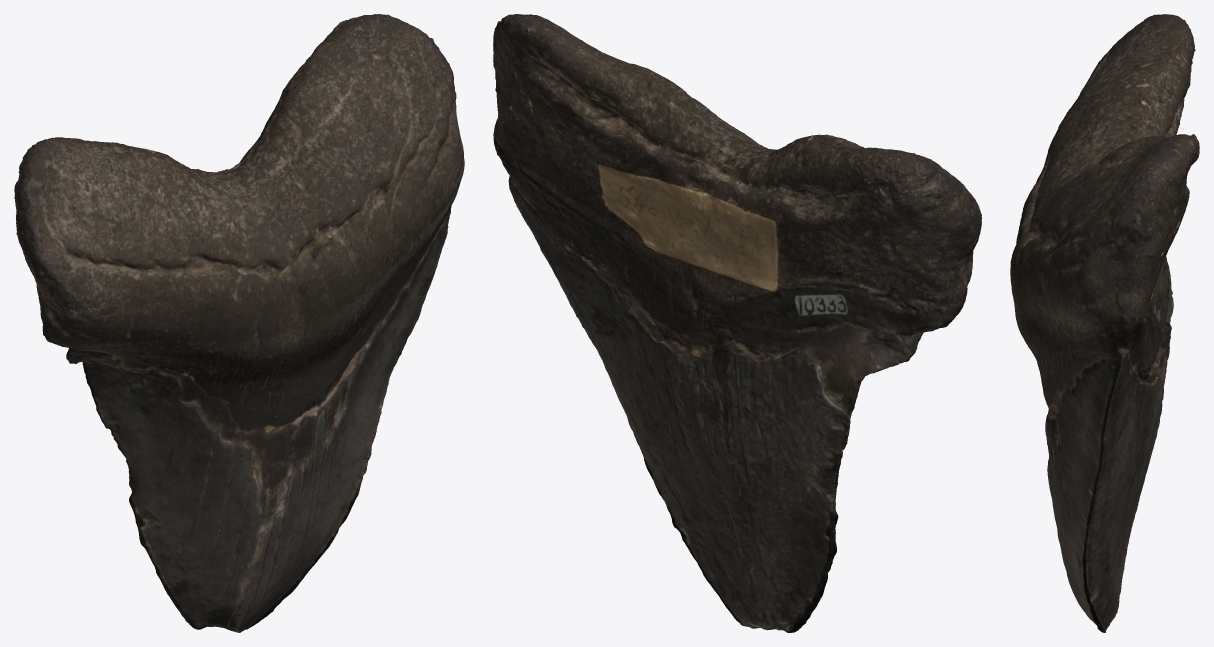
The picture shows the model from 3 angles, left to right: view 1: azimuth 30°, elevation 25°; view 2: azimuth 150°, elevation 25°; view 3: azimuth 270°, elevation 25°; orthographic projection. The views are drawn at different scales.
Parts seen in each view (by area): view 1: tamanho; view 2: tamanho; view 3: tamanho.
Boxes of the visible parts, box(x1,y1,x2,y2) form: tamanho: box(14, 14, 464, 632); tamanho: box(493, 14, 981, 632); tamanho: box(1010, 14, 1199, 632).
Bounding box in the file's own units: 4136 × 4915 × 1470.
Materials: 1 (1 with a texture image).
